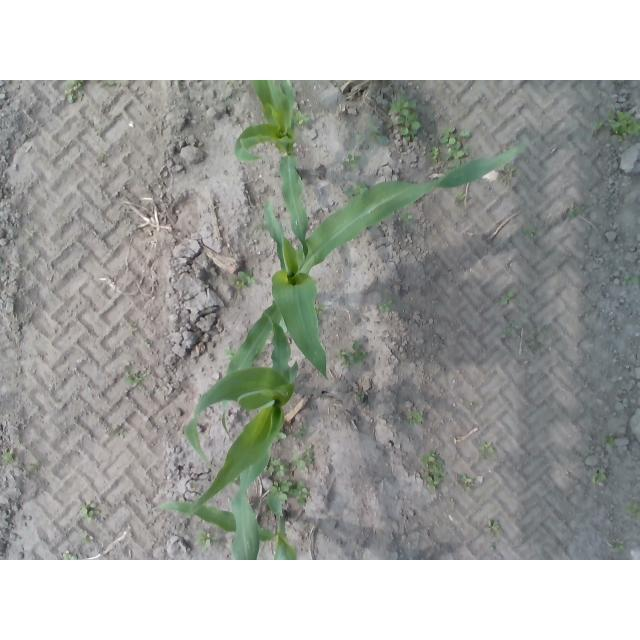Maize: (221, 142, 535, 441), (184, 312, 299, 560), (235, 80, 310, 257), (155, 492, 298, 560)
Weeds: (391, 99, 422, 140), (359, 118, 389, 147), (443, 127, 469, 158), (423, 454, 446, 487), (611, 111, 638, 133), (64, 80, 84, 102), (194, 529, 218, 547), (297, 450, 316, 470), (522, 331, 538, 354), (567, 201, 586, 220), (235, 271, 253, 289), (271, 481, 290, 496), (343, 155, 362, 170), (272, 461, 290, 476), (483, 520, 499, 536), (353, 344, 368, 360), (292, 485, 308, 500), (340, 351, 356, 366), (83, 504, 102, 516), (593, 468, 607, 484), (627, 502, 640, 517), (625, 272, 640, 285), (505, 321, 520, 334), (480, 442, 496, 453), (409, 412, 424, 423), (502, 294, 515, 306), (379, 301, 393, 312), (127, 376, 141, 386), (612, 540, 624, 551), (345, 187, 356, 199), (358, 183, 371, 193), (63, 552, 77, 561), (593, 121, 604, 132), (506, 166, 516, 178), (95, 80, 114, 86), (461, 475, 472, 485), (432, 147, 441, 159), (298, 112, 307, 124), (457, 193, 467, 203), (402, 214, 413, 223), (460, 129, 471, 138), (83, 532, 94, 541), (606, 435, 615, 445), (6, 453, 14, 464), (528, 230, 537, 239), (117, 430, 125, 439), (226, 349, 234, 358), (358, 391, 365, 401), (29, 465, 39, 472), (538, 329, 546, 335)
